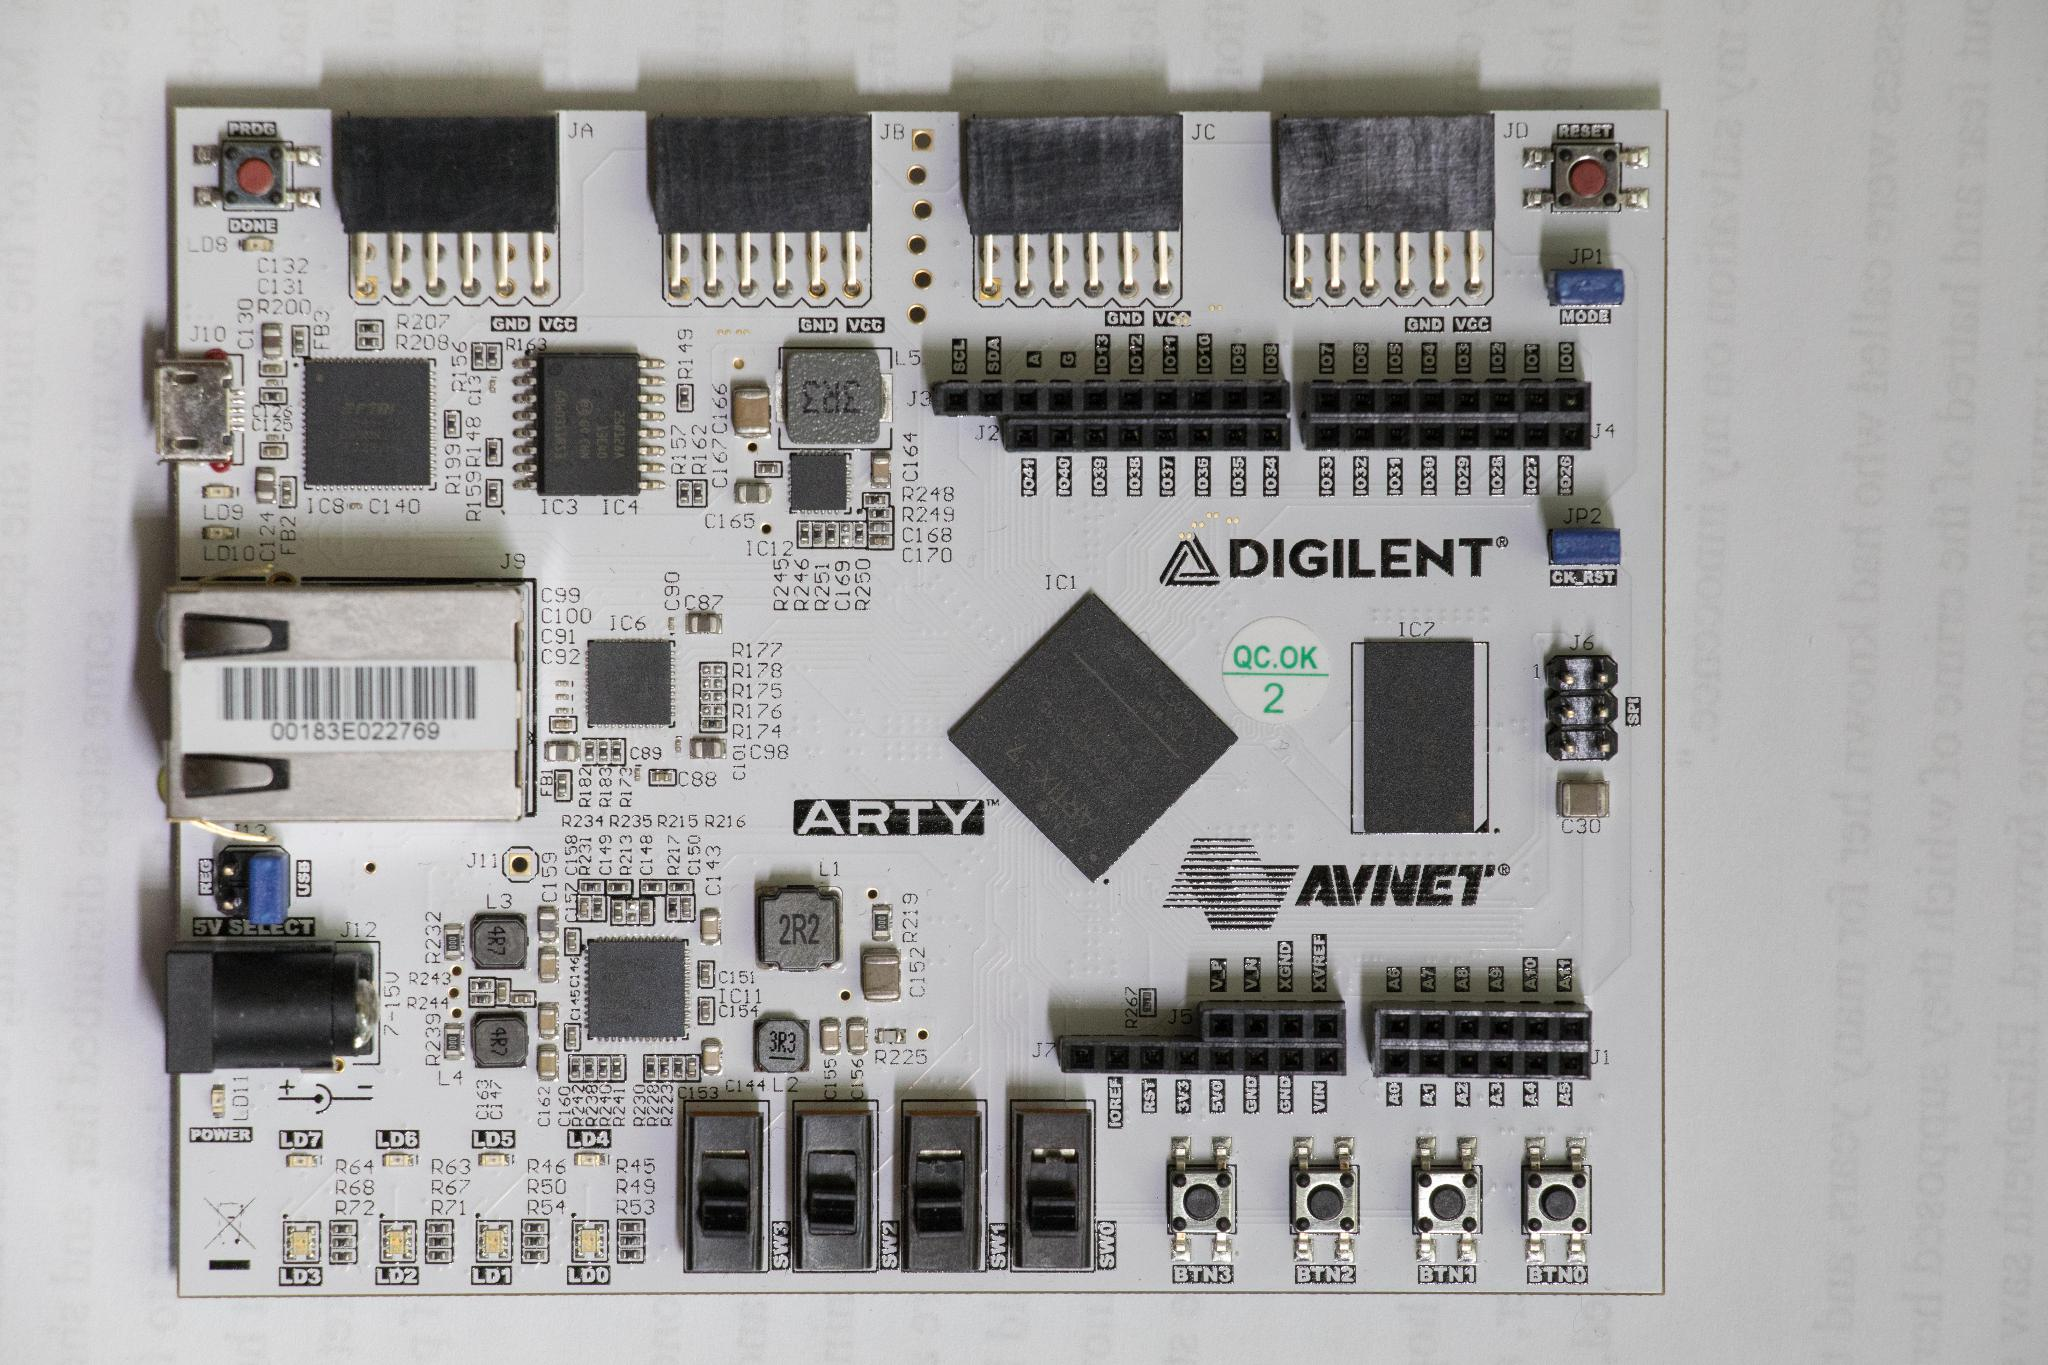Button: (1522, 142, 1652, 213), (194, 139, 322, 211), (1410, 1133, 1480, 1263), (1285, 1135, 1357, 1261), (1164, 1134, 1234, 1260), (1520, 1136, 1590, 1262)
Capacitor: (1555, 778, 1611, 818), (730, 384, 770, 439), (860, 947, 900, 1001), (260, 322, 284, 360), (699, 905, 721, 946), (845, 1014, 867, 1055), (682, 612, 724, 633), (869, 449, 891, 488), (536, 906, 558, 945), (537, 1000, 559, 1039), (700, 1037, 722, 1076), (536, 1042, 558, 1081), (253, 465, 275, 502), (819, 1017, 841, 1054), (734, 483, 772, 503), (544, 741, 580, 762), (537, 946, 557, 983), (690, 737, 726, 757), (750, 459, 780, 479), (698, 957, 714, 987), (548, 715, 576, 732), (564, 926, 580, 955), (509, 990, 535, 1007), (637, 897, 653, 924), (697, 996, 713, 1023), (564, 1024, 580, 1051), (649, 768, 675, 784), (257, 361, 285, 375), (610, 896, 624, 924), (866, 519, 892, 534), (680, 893, 694, 920), (495, 977, 509, 1004), (260, 444, 286, 458), (868, 535, 892, 549), (578, 893, 590, 919), (687, 1054, 699, 1079), (260, 376, 284, 387), (347, 500, 363, 512), (264, 432, 282, 441), (666, 616, 676, 630), (674, 736, 682, 752), (556, 692, 568, 700), (634, 766, 640, 781), (556, 706, 568, 712), (556, 680, 568, 685)
Connector: (157, 580, 537, 821), (644, 104, 872, 308), (329, 108, 559, 305), (964, 106, 1184, 307), (1272, 109, 1494, 307), (162, 940, 378, 1073), (928, 376, 1290, 447), (1303, 378, 1591, 449), (1060, 1004, 1344, 1075), (1369, 999, 1593, 1078), (148, 348, 244, 466), (1538, 651, 1618, 762), (903, 123, 935, 329), (216, 843, 248, 915)
Ferrite Bead: (552, 768, 572, 800), (278, 475, 296, 508), (290, 325, 308, 355)
IC: (938, 593, 1238, 884), (1350, 639, 1488, 832), (512, 345, 664, 496), (302, 358, 436, 487), (583, 936, 687, 1039), (584, 637, 674, 726), (788, 452, 850, 513)
Inductor: (778, 347, 890, 448), (755, 887, 841, 971), (752, 1017, 810, 1075), (470, 1010, 528, 1067), (469, 912, 527, 968)
Jumper: (247, 845, 289, 924), (1545, 269, 1625, 305), (1548, 527, 1620, 564)
Led: (380, 1219, 416, 1261), (477, 1217, 511, 1261), (284, 1221, 318, 1262), (573, 1220, 607, 1260), (284, 1152, 326, 1166), (210, 1083, 226, 1117), (239, 236, 273, 252), (202, 525, 234, 540), (574, 1151, 606, 1165), (478, 1152, 510, 1165), (382, 1154, 414, 1167), (202, 485, 234, 497)
Pads: (700, 661, 726, 676), (698, 676, 726, 689), (625, 898, 639, 924), (839, 521, 851, 549), (698, 704, 726, 716), (700, 691, 726, 703)
Resistor Network: (869, 902, 893, 940), (443, 923, 463, 960), (444, 1021, 462, 1058), (484, 477, 502, 507), (1138, 987, 1156, 1017), (874, 1027, 904, 1044), (486, 340, 502, 371), (444, 409, 460, 437), (676, 478, 692, 506), (698, 716, 726, 732), (520, 1247, 548, 1263), (260, 387, 286, 404), (863, 491, 889, 508), (610, 1054, 626, 1081), (521, 1219, 549, 1234), (425, 1248, 453, 1263), (610, 737, 626, 763), (582, 738, 598, 764), (568, 1054, 584, 1080), (657, 1054, 673, 1080), (590, 895, 606, 920), (796, 519, 810, 547), (811, 520, 825, 548), (604, 879, 632, 893), (643, 1053, 657, 1081), (425, 1219, 453, 1233), (616, 1234, 644, 1248), (358, 320, 386, 334), (468, 991, 494, 1006), (618, 1219, 644, 1234), (618, 1247, 644, 1262), (678, 382, 692, 409), (486, 438, 500, 465), (852, 521, 866, 547), (640, 878, 666, 892), (666, 878, 692, 892), (666, 894, 680, 920), (425, 1234, 453, 1247), (330, 1248, 356, 1262), (472, 343, 486, 368), (672, 1054, 686, 1079), (330, 1221, 356, 1234), (356, 335, 382, 348), (694, 478, 706, 506), (868, 507, 892, 521), (598, 736, 610, 764), (597, 1053, 609, 1080), (826, 522, 838, 548), (580, 879, 604, 892), (468, 978, 494, 990), (584, 1053, 596, 1079), (521, 1234, 547, 1246), (330, 1235, 356, 1247)
Switch: (792, 1099, 878, 1270), (902, 1098, 986, 1270), (684, 1100, 768, 1271), (1010, 1100, 1094, 1271)
Test Point: (504, 846, 538, 883)
